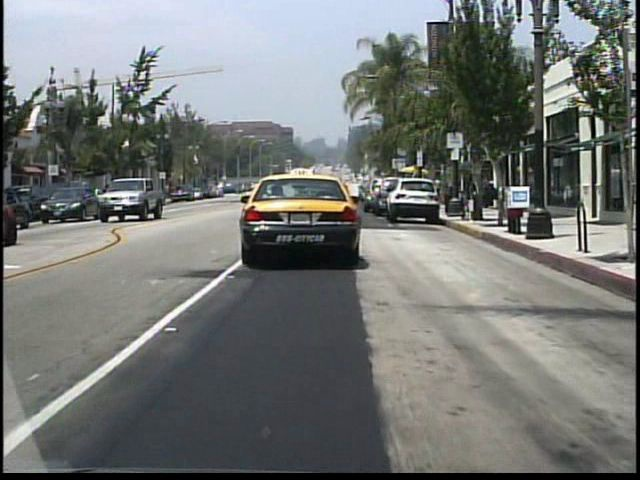person: (431, 176, 443, 203)
